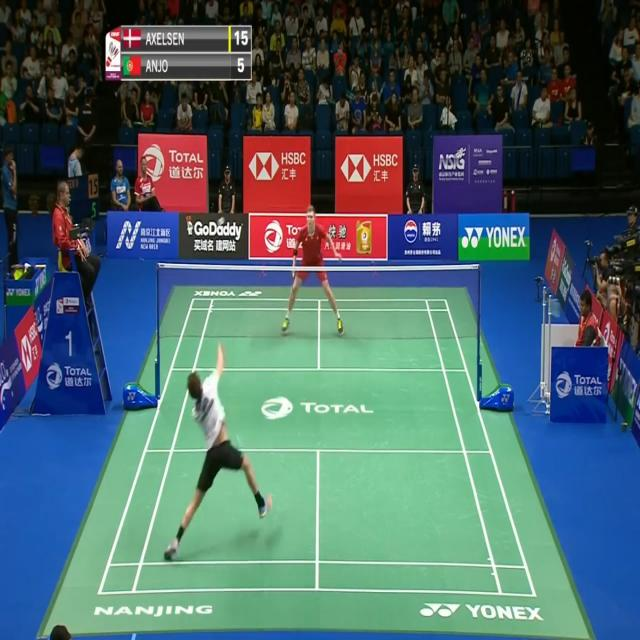Player1: (159, 342, 275, 564)
Player2: (275, 204, 349, 338)
